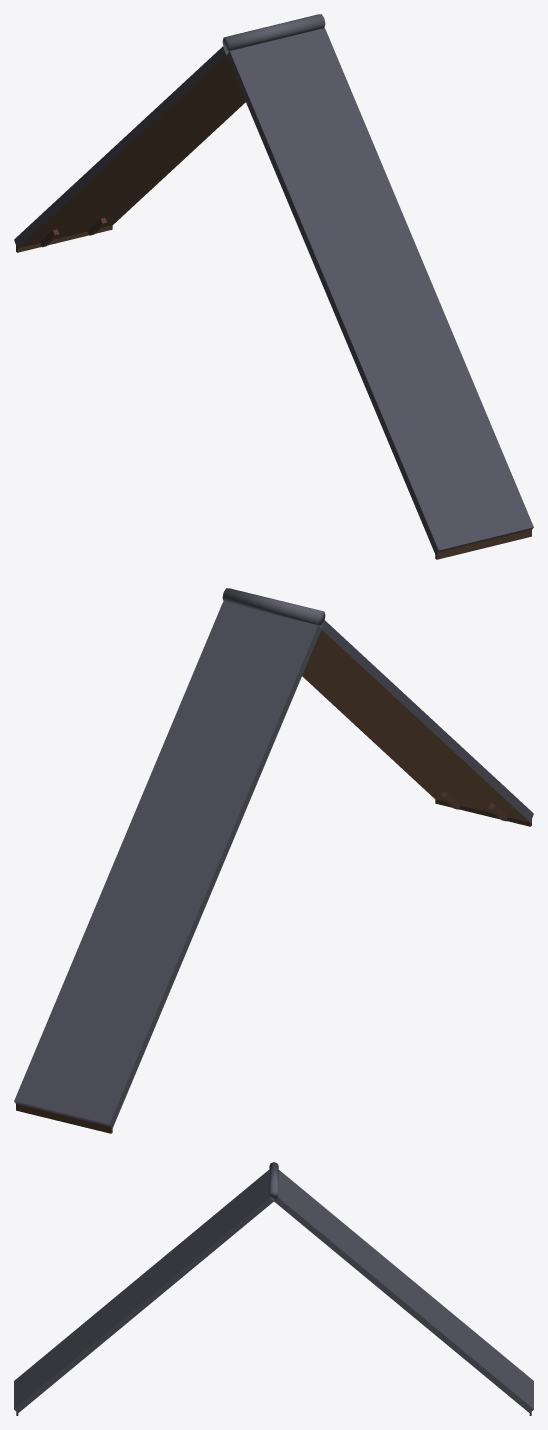
The model's file is kit_church_slate_w7.glb.
The picture shows the model from 3 angles, top to bottom: view 1: azimuth 30°, elevation 25°; view 2: azimuth 150°, elevation 25°; view 3: azimuth 270°, elevation 25°; orthographic projection. The views are drawn at different scales.
Visible parts, largest first — view 1: kit_church_slate_w7; view 2: kit_church_slate_w7; view 3: kit_church_slate_w7.
Boxes of the visible parts, x1,y1,x2,y2 form: kit_church_slate_w7: (14, 14, 533, 559); kit_church_slate_w7: (14, 588, 533, 1133); kit_church_slate_w7: (14, 1162, 533, 1415).
Size of the model in its own units: 1 by 3.69 by 7.72.
